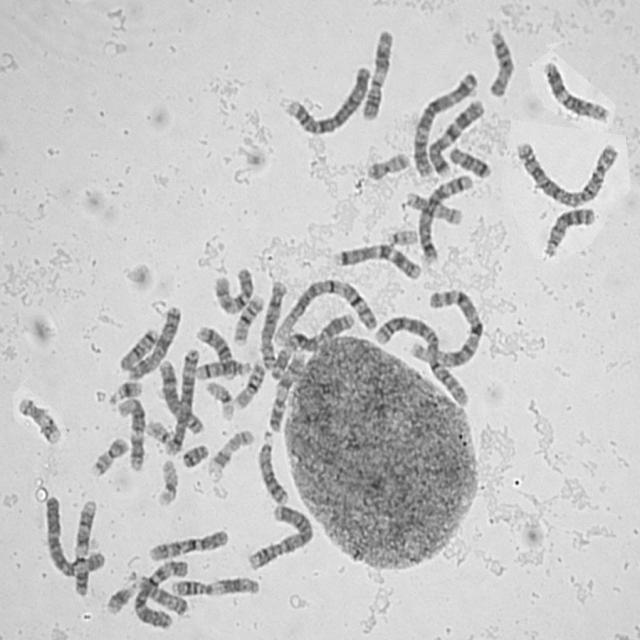A1: (271, 274, 379, 344), (406, 284, 485, 366)
A2: (371, 310, 472, 408), (510, 134, 620, 208)
A3: (408, 68, 481, 180), (412, 90, 486, 179)
B4: (280, 61, 373, 137), (244, 501, 315, 572)
B5: (416, 169, 476, 265), (162, 345, 200, 457)
C10: (145, 524, 230, 562), (209, 262, 255, 316)
C11: (359, 25, 394, 122), (166, 572, 262, 598)
C12: (538, 56, 612, 124), (114, 393, 147, 473)
C6: (41, 492, 104, 578), (130, 556, 190, 630)
C7: (422, 93, 486, 178), (331, 239, 422, 281)
C8: (155, 356, 205, 437), (256, 276, 288, 372)
C9: (265, 349, 307, 434), (69, 496, 98, 598)
D13: (540, 202, 597, 259), (255, 426, 290, 506)
D14: (192, 321, 238, 379), (191, 355, 252, 381)
D15: (133, 570, 189, 617), (484, 25, 516, 98)
E16: (230, 290, 266, 346), (231, 356, 267, 410)
E17: (13, 392, 63, 446), (206, 424, 256, 472)
E18: (116, 324, 160, 372), (445, 142, 493, 180)
F19: (153, 454, 180, 508), (202, 378, 235, 421)
F20: (87, 432, 130, 478), (363, 148, 411, 182)
G21: (102, 576, 139, 616), (105, 376, 144, 407)
G22: (143, 415, 174, 447), (384, 225, 420, 248)
X: (122, 301, 182, 381)
Y: (178, 439, 210, 470)
